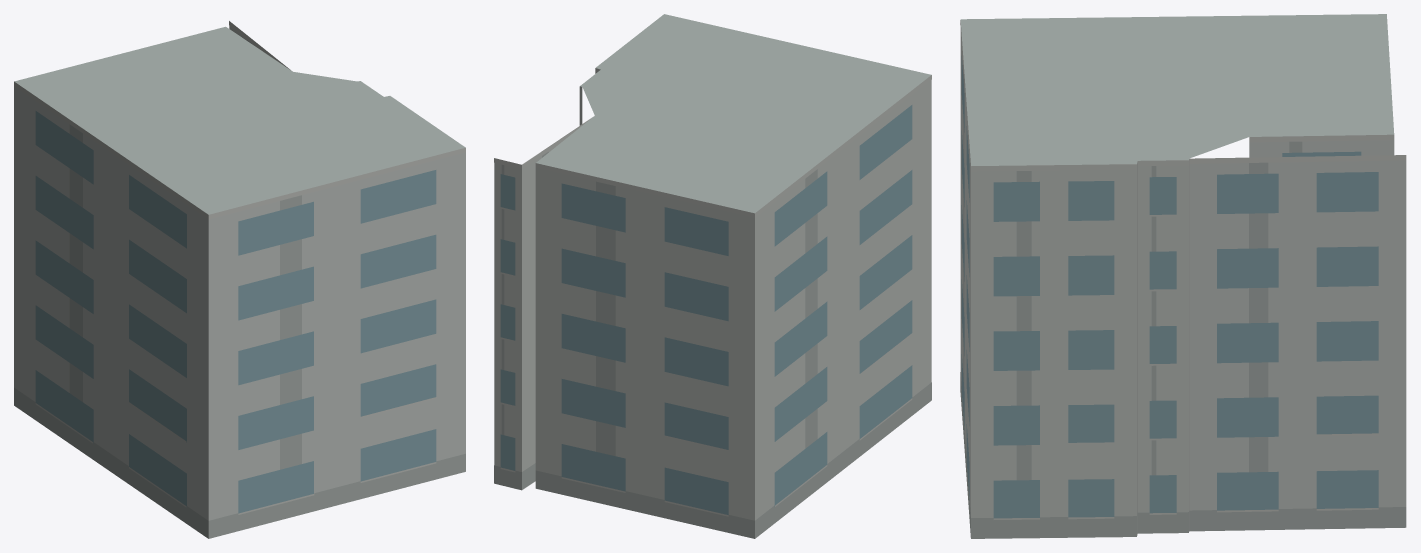
File: survey-upis-32841105.glb
3 views of the same model, side by side, from view 1: azimuth 30°, elevation 25°; view 2: azimuth 150°, elevation 25°; view 3: azimuth 270°, elevation 25° (orthographic). The views are drawn at different scales.
Visible parts, largest first — view 1: survey-upis-32841105.tmp; view 2: survey-upis-32841105.tmp; view 3: survey-upis-32841105.tmp.
Part boxes in pixels (x1,y1,x2,y2): survey-upis-32841105.tmp: [14, 21, 465, 538]; survey-upis-32841105.tmp: [494, 14, 931, 538]; survey-upis-32841105.tmp: [960, 14, 1406, 538].
Bounding box in the file's own units: 14.68 × 16.76 × 18.18.
